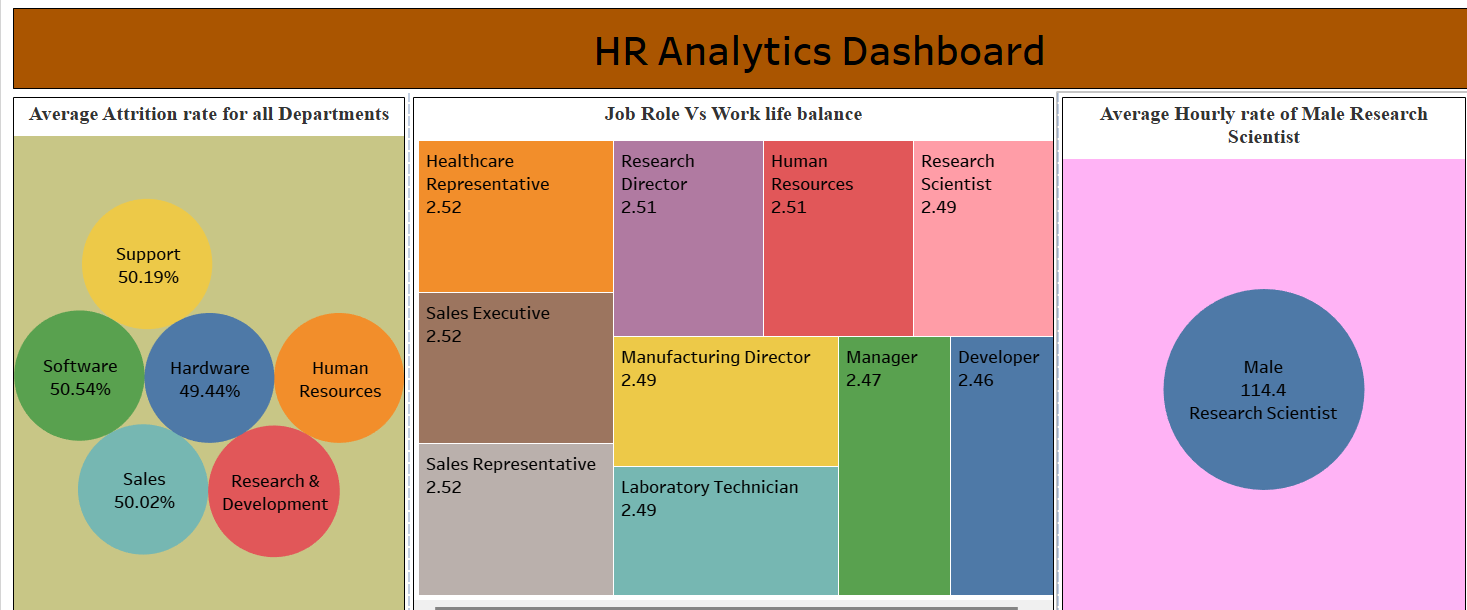

This screenshot's page, from the dashboard's own definition file:
{"tool":"tableau","page":{"name":"Dashboard 1","canvas":[1000,1000],"units":"permille","ordinal":0},"visuals":[{"type":"text","box":[4.8,6.4,990.5,70.4]},{"type":"worksheet","title":"KPI-1","mark":"Circle","box":[4.8,76.8,245,422.6]},{"type":"worksheet","title":"KPI-5","mark":"Automatic","box":[249.7,76.8,397.9,422.6]},{"type":"worksheet","title":"KPI-2","mark":"Pie","box":[647.6,76.8,252.4,422.6]},{"type":"legend","title":"KPI-1","param":"[federated.0pt1pa61yhcadc1crsget085mknc].[none:Sheet1.1.Department:nk]","box":[900,76.8,95.2,123.8]},{"type":"filter","title":"KPI-2","param":"[federated.0pt1pa61yhcadc1crsget085mknc].[none:Sheet1.1.Gender:nk]","box":[900,200.6,95.2,83.3]},{"type":"filter","title":"KPI-2","param":"[federated.0pt1pa61yhcadc1crsget085mknc].[none:Sheet1.1.Department:nk]","box":[900,283.9,95.2,156.3]},{"type":"legend","title":"KPI-4","param":"[federated.0pt1pa61yhcadc1crsget085mknc].[avg:TotalWorkingYears:qk]","box":[900,440.2,95.2,40.5]},{"type":"legend","title":"KPI-5","param":"[federated.0pt1pa61yhcadc1crsget085mknc].[none:Sheet1.1.JobRole:nk]","box":[900,480.7,95.2,190.5]},{"type":"worksheet","title":"KPI-3","mark":"Automatic","rows":["MonthlyIncome"],"cols":["Sheet1.1.Department"],"box":[4.8,499.3,331.6,494.3]},{"type":"worksheet","title":"KPI-6","mark":"Circle","box":[336.4,499.3,245.8,494.3]},{"type":"worksheet","title":"KPI-4","mark":"Pie","box":[582.2,499.3,317.8,494.3]}]}

Visuals, with their boxes on the dashboard's canvas, which has no fixed pixel size, in thousandths of its width and height (x1, y1, x2, y2). These are canvas units, not pixel positions in the 1467x610 screenshot, which may show the page scaled, cropped or inside an application window:
text: (x1=5, y1=6, x2=995, y2=77)
"KPI-1" worksheet (Circle marks): (x1=5, y1=77, x2=250, y2=499)
"KPI-5" worksheet: (x1=250, y1=77, x2=648, y2=499)
"KPI-2" worksheet (Pie marks): (x1=648, y1=77, x2=900, y2=499)
"KPI-1" legend: (x1=900, y1=77, x2=995, y2=201)
"KPI-2" filter: (x1=900, y1=201, x2=995, y2=284)
"KPI-2" filter: (x1=900, y1=284, x2=995, y2=440)
"KPI-4" legend: (x1=900, y1=440, x2=995, y2=481)
"KPI-5" legend: (x1=900, y1=481, x2=995, y2=671)
"KPI-3" worksheet: (x1=5, y1=499, x2=336, y2=994)
"KPI-6" worksheet (Circle marks): (x1=336, y1=499, x2=582, y2=994)
"KPI-4" worksheet (Pie marks): (x1=582, y1=499, x2=900, y2=994)
